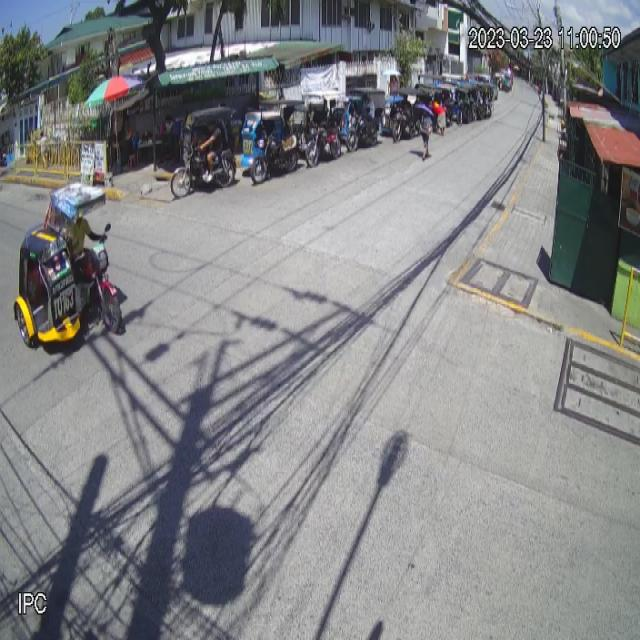Tricycle: (13, 182, 122, 348)
